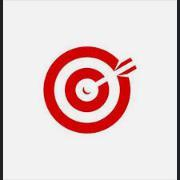target_red: (42, 45, 137, 134)
